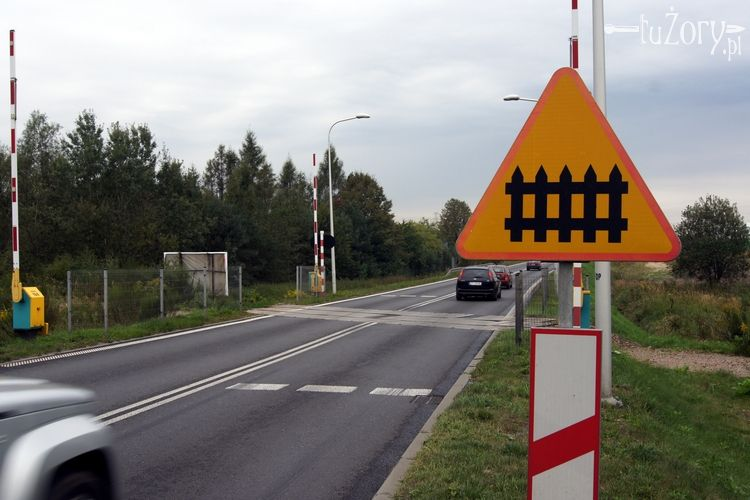a9: (501, 162, 639, 253)
